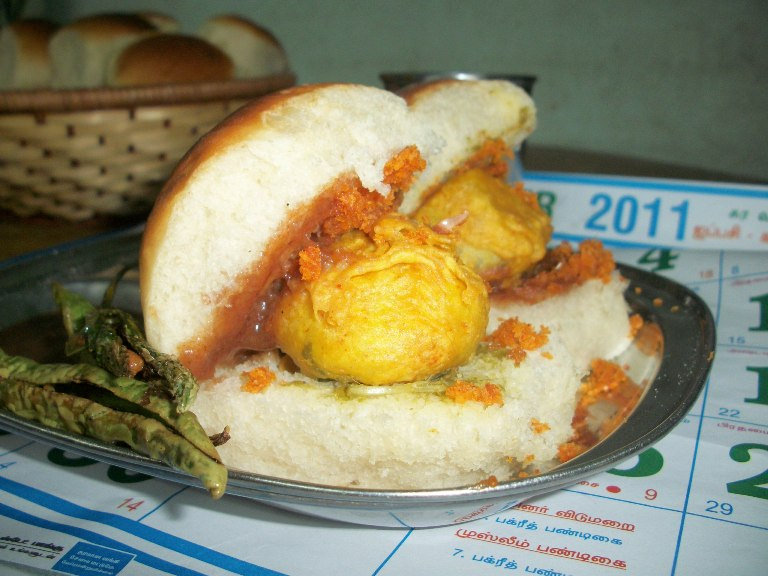vada pav: (196, 79, 533, 457)
